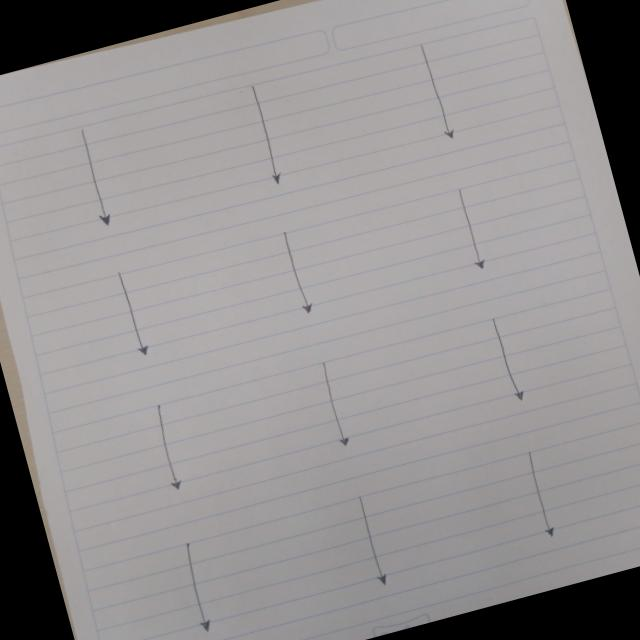arrow_line_down: (400, 32, 472, 144), (130, 398, 198, 500), (235, 78, 296, 190), (62, 130, 122, 236), (484, 310, 540, 409), (110, 266, 164, 365), (272, 223, 326, 322), (169, 539, 219, 640), (514, 446, 566, 540), (346, 493, 396, 588), (446, 186, 496, 274), (310, 361, 354, 449)
